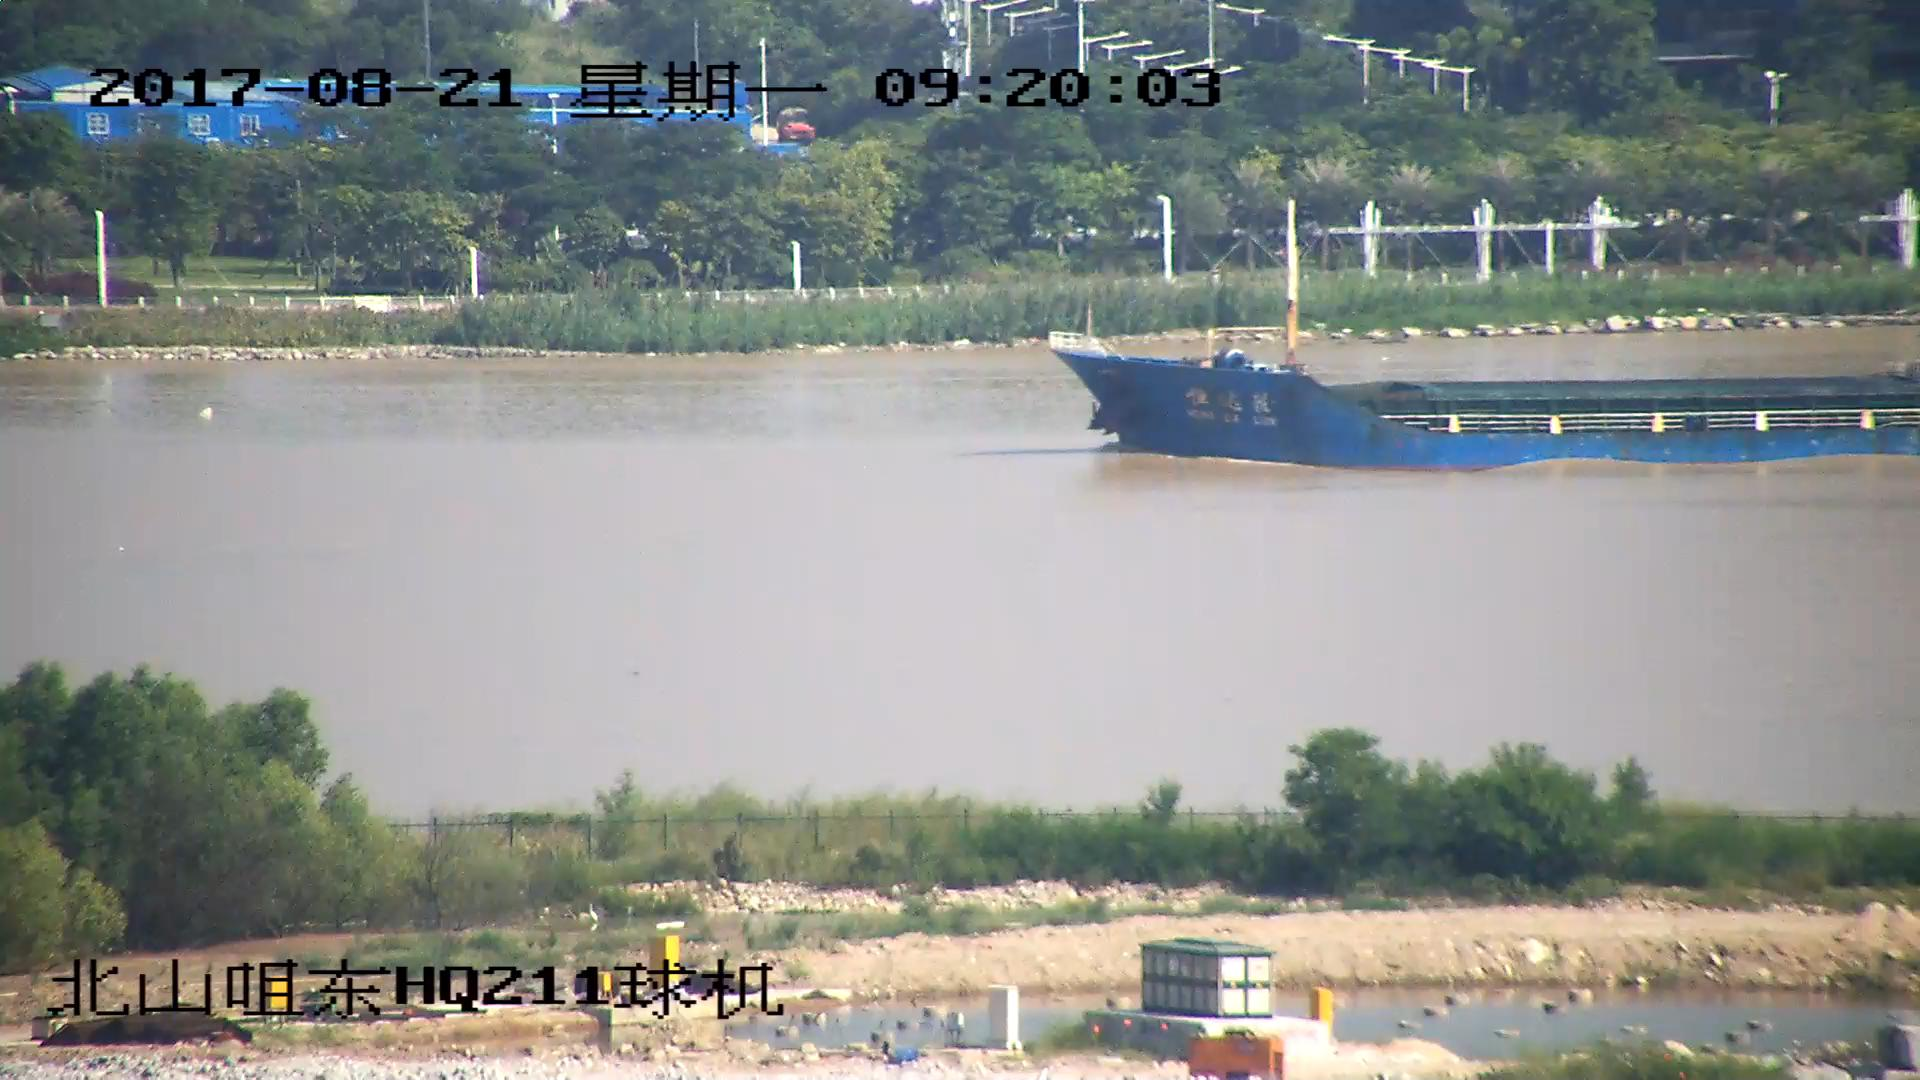general cargo ship: (1055, 206, 1920, 472)
